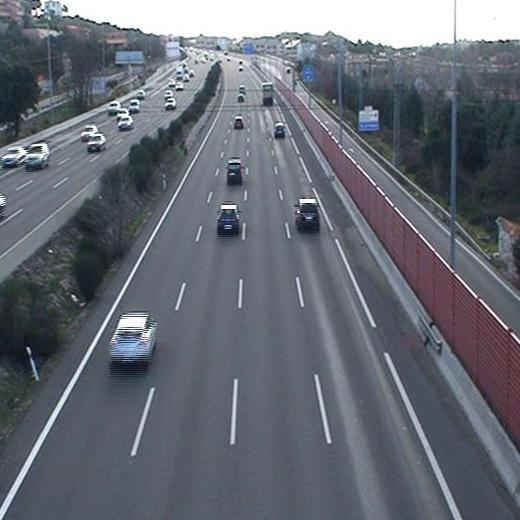car: (109, 311, 156, 362), (294, 198, 319, 227), (215, 204, 240, 232), (273, 121, 286, 137), (232, 115, 243, 129)
small-truck: (261, 82, 274, 103)
van: (226, 158, 243, 183)
